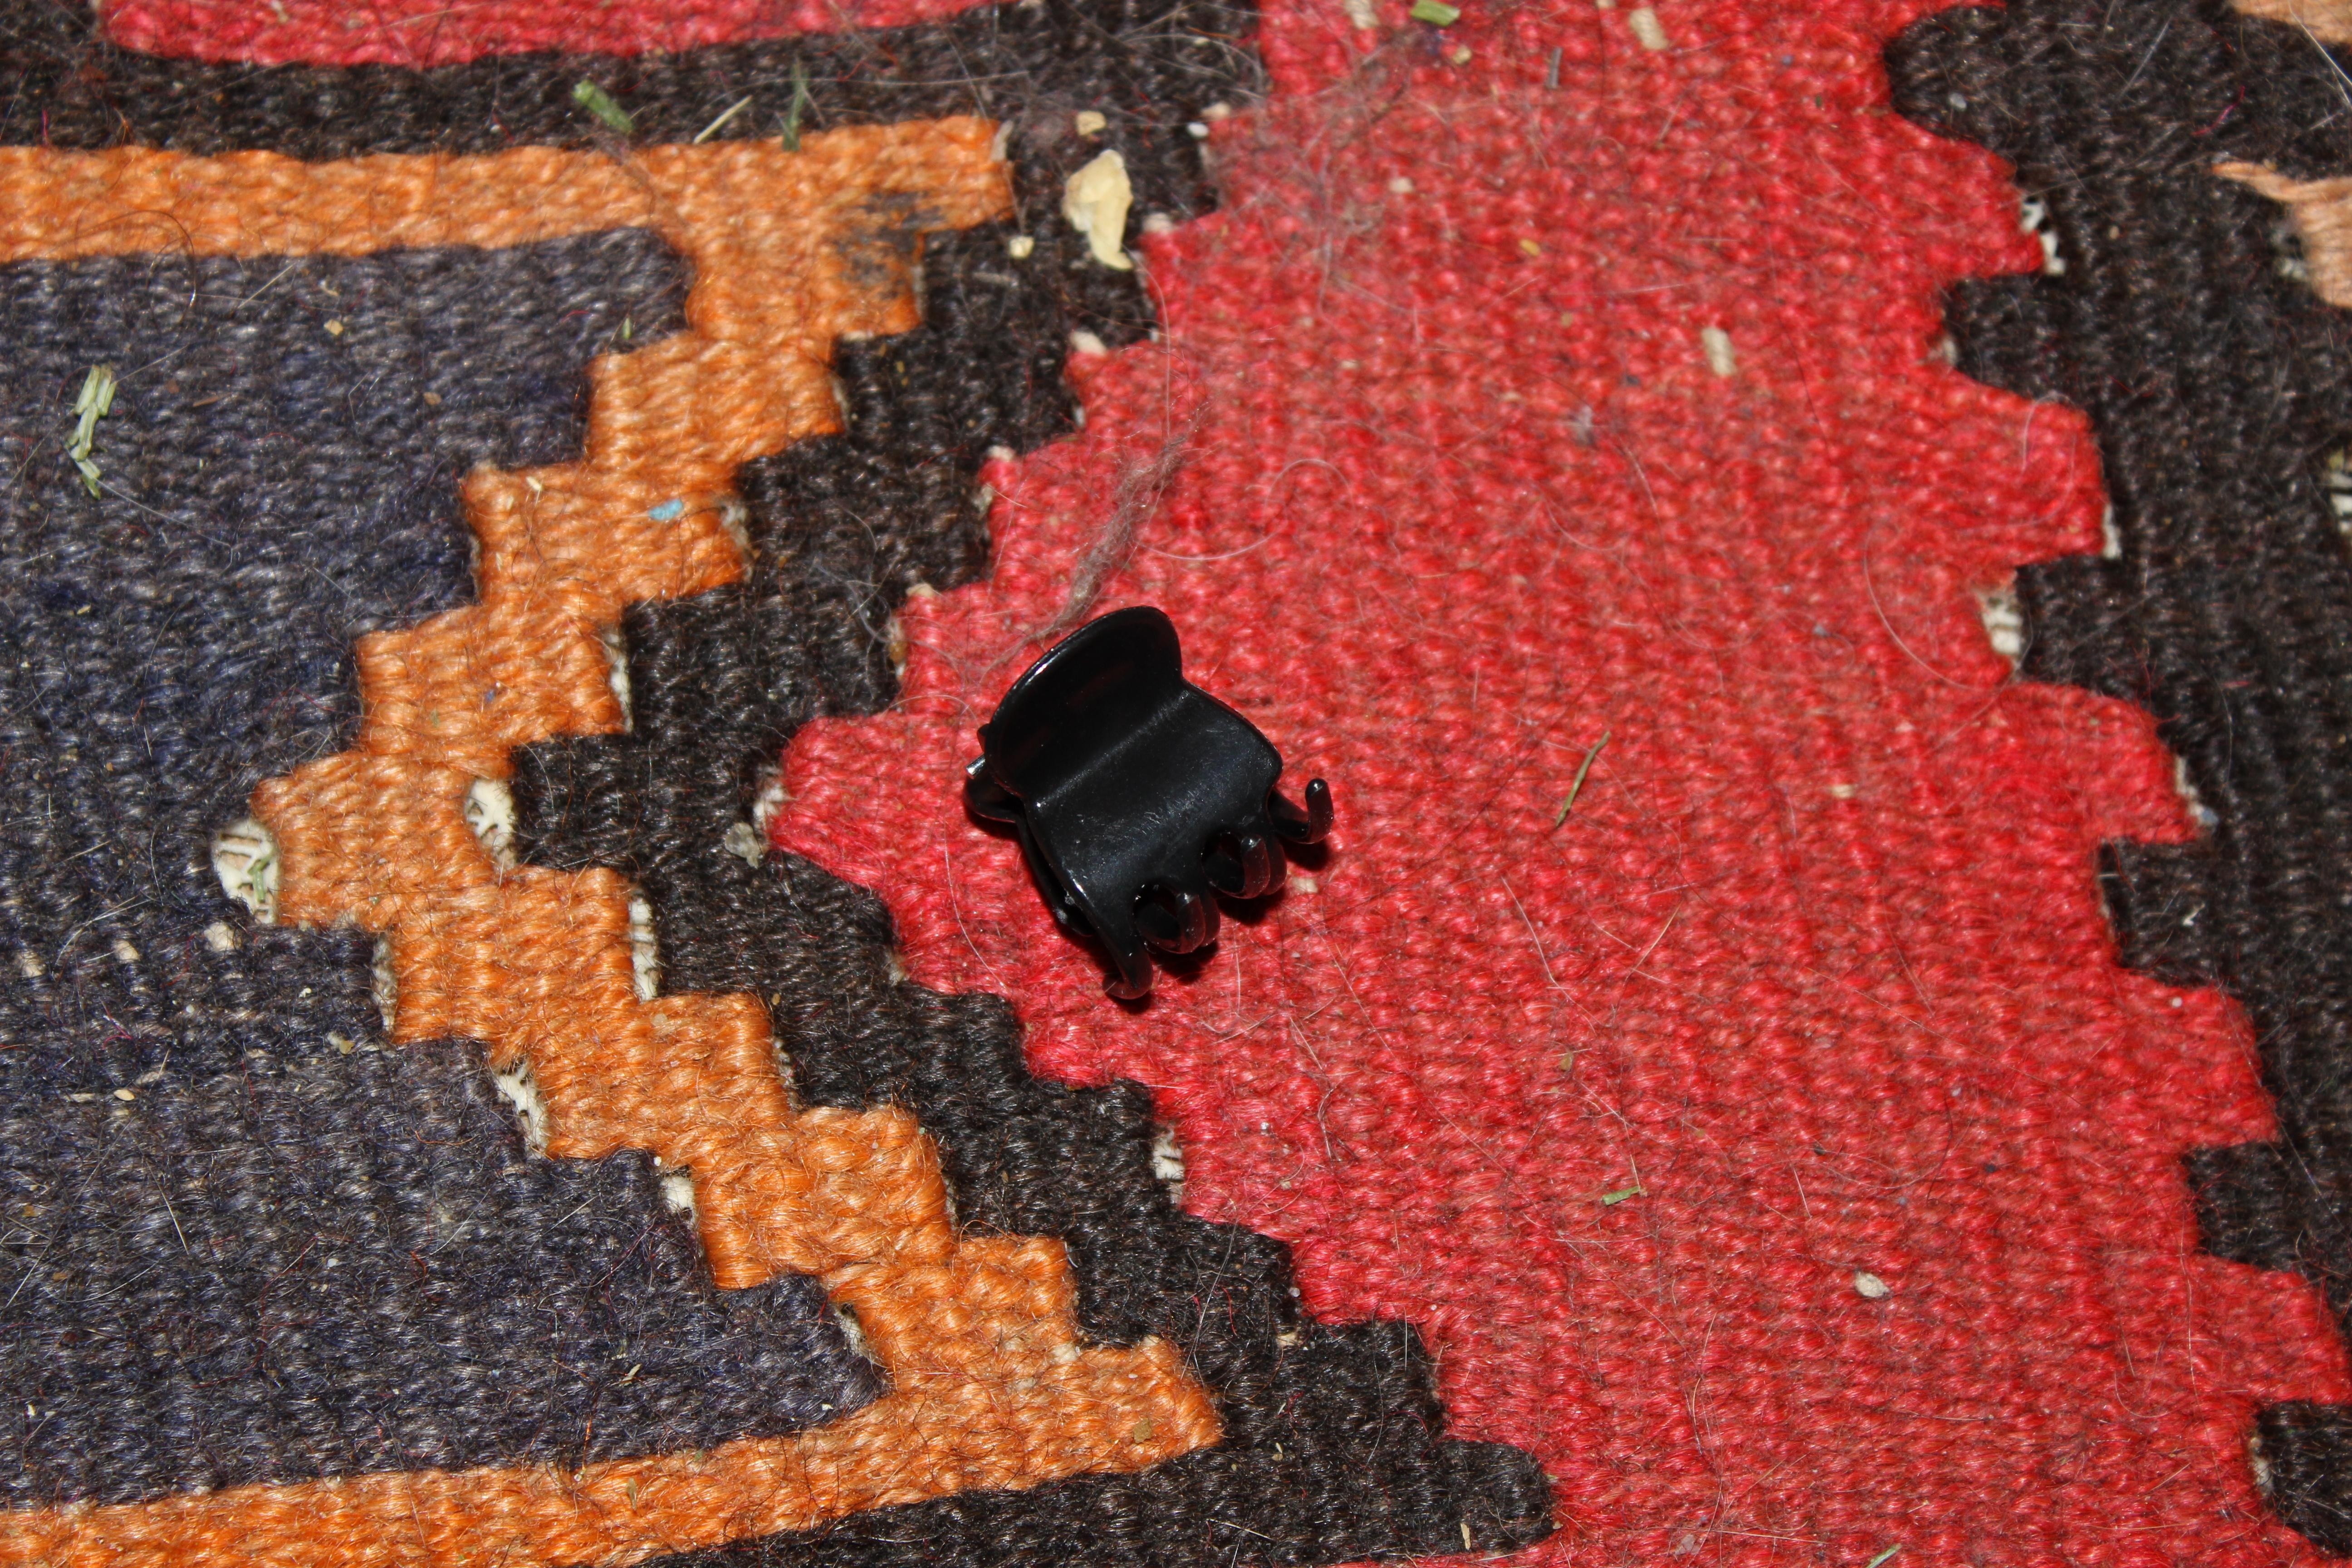hairClip: (931, 595, 1375, 1022)
